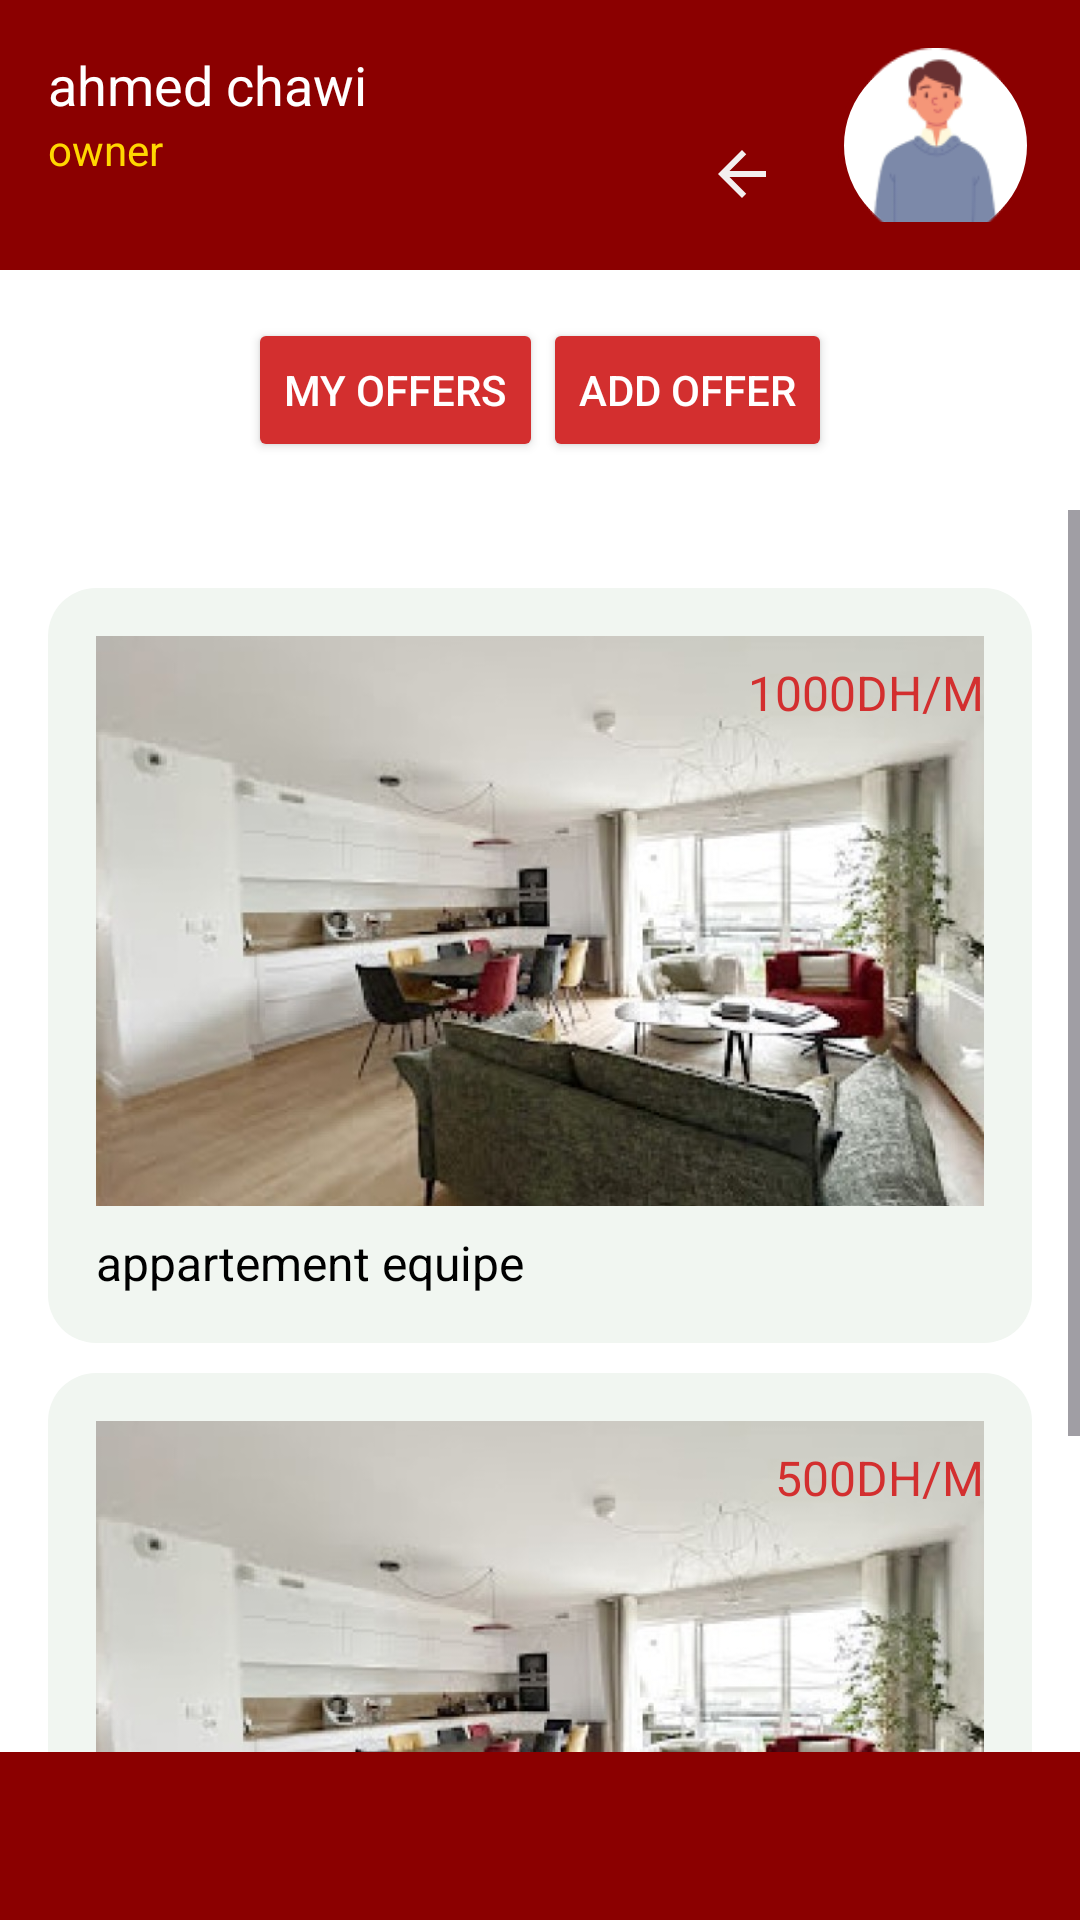

Icon click points for this 1080 × 1920 phone screenshot, format [x,y]:
Back: [742,174]
User: [935,135]
